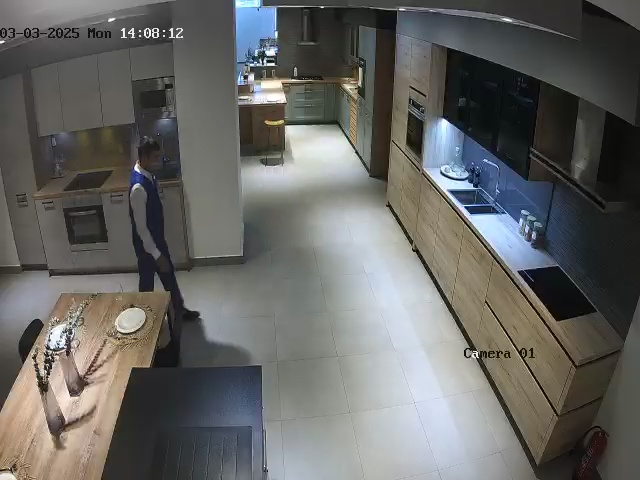employee: (128, 137, 201, 322)
